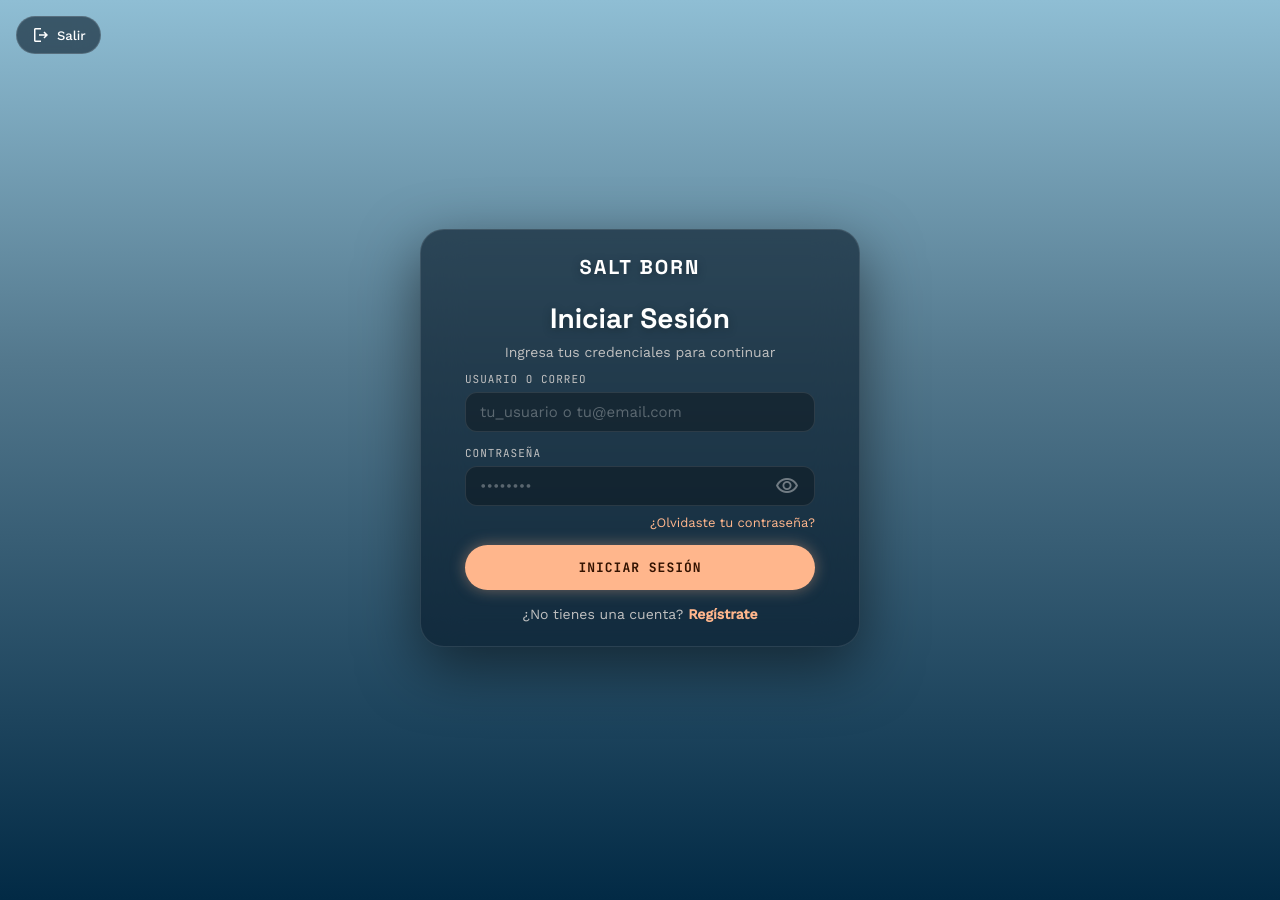
Test case: Login › muestra error si la contraseña está vacía
In the field labelled "Usuario o Correo": (640, 412) [465,392,815,432], type "testuser"
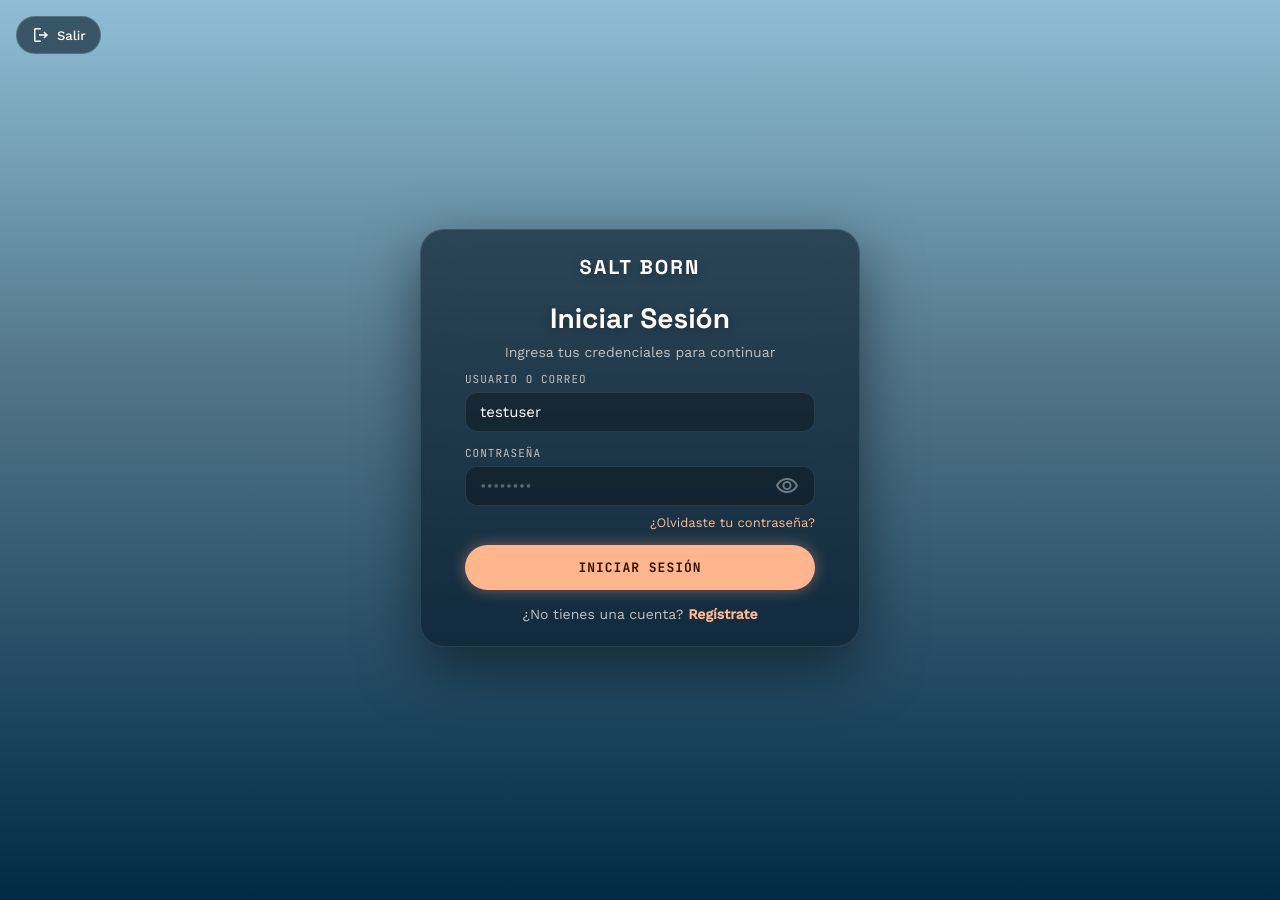
Click the button "Iniciar Sesión": (640, 568) [465,545,815,590]
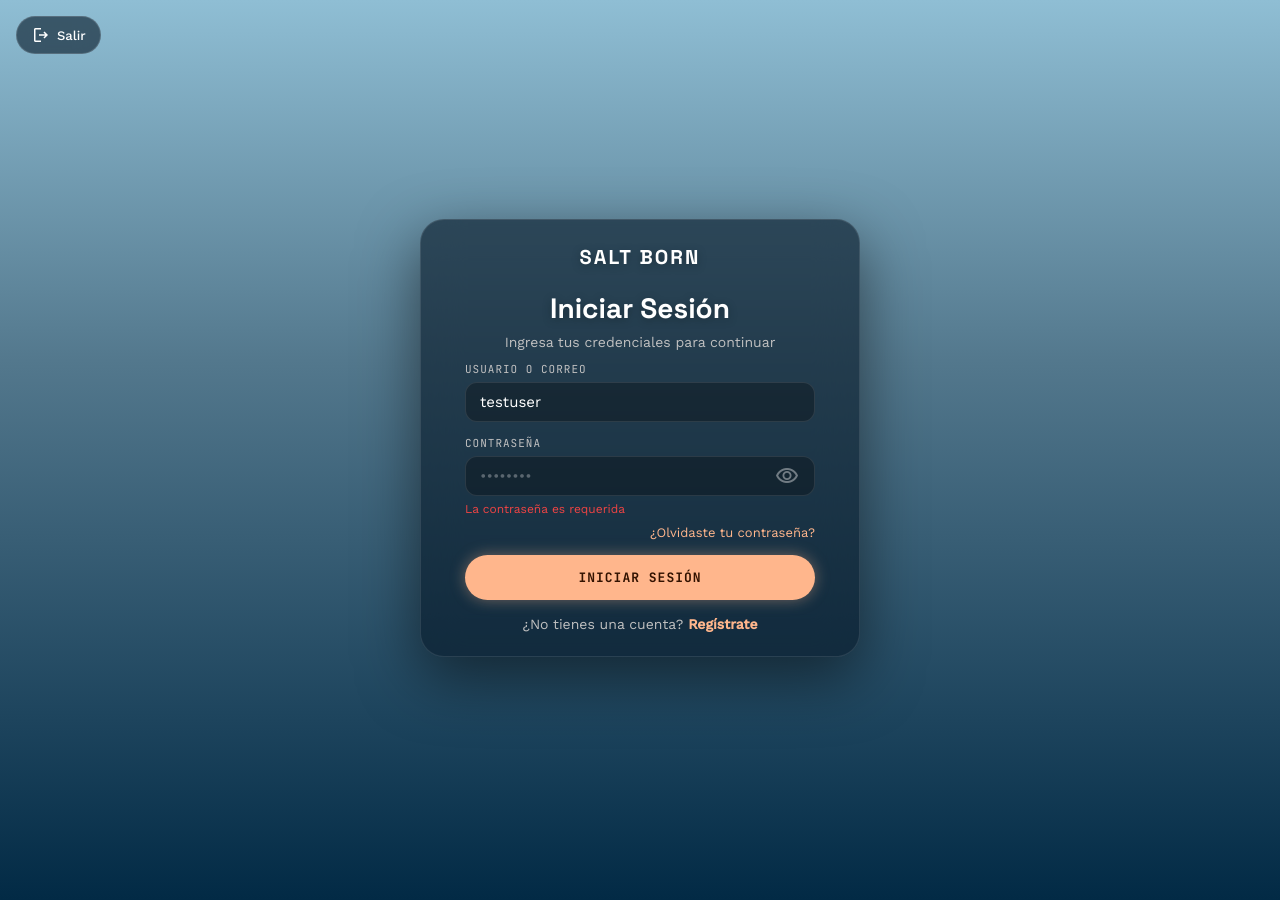
Expected: the text "La contraseña es requerida" is shown, [465,502,625,516]
